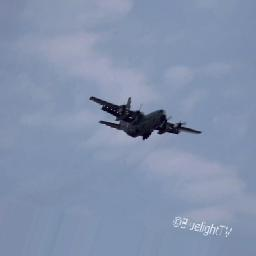Airplane: (89, 94, 203, 142)
